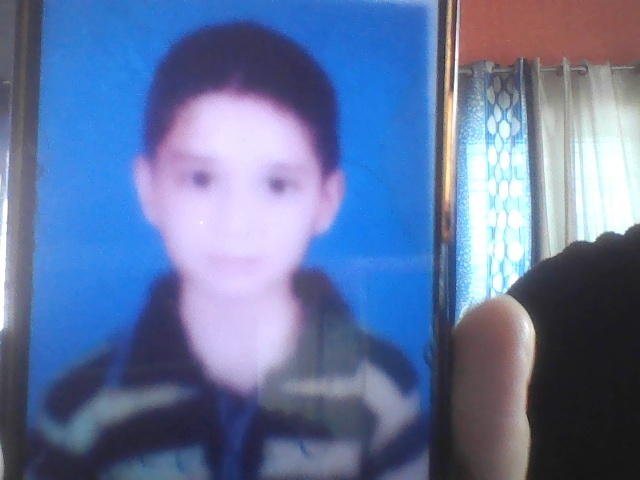fake: (138, 22, 349, 321)
